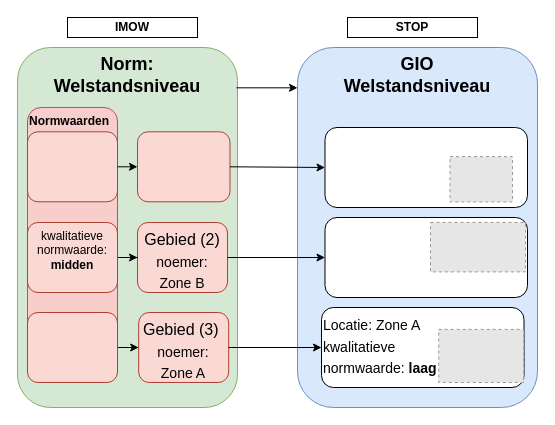
This 555x425 diagram has some shape labels left out. Grey dashed boxes stand in for pictures. The box of each missing label's shape, as (x1, y1, x2, y2) in pixels:
Gebied (1) noemer: Centrumgebied: (136, 131, 230, 202)
kwalitatieve normwaarde: hoog: (26, 131, 118, 202)
kwalitatieve normwaarde: laag: (26, 312, 118, 382)
Locatie: Centrumgebied kwalitatieve normwaarde: hoog: (324, 126, 528, 208)
Locatie: Zone B kwalitatieve normwaarde: midden: (324, 216, 528, 298)
